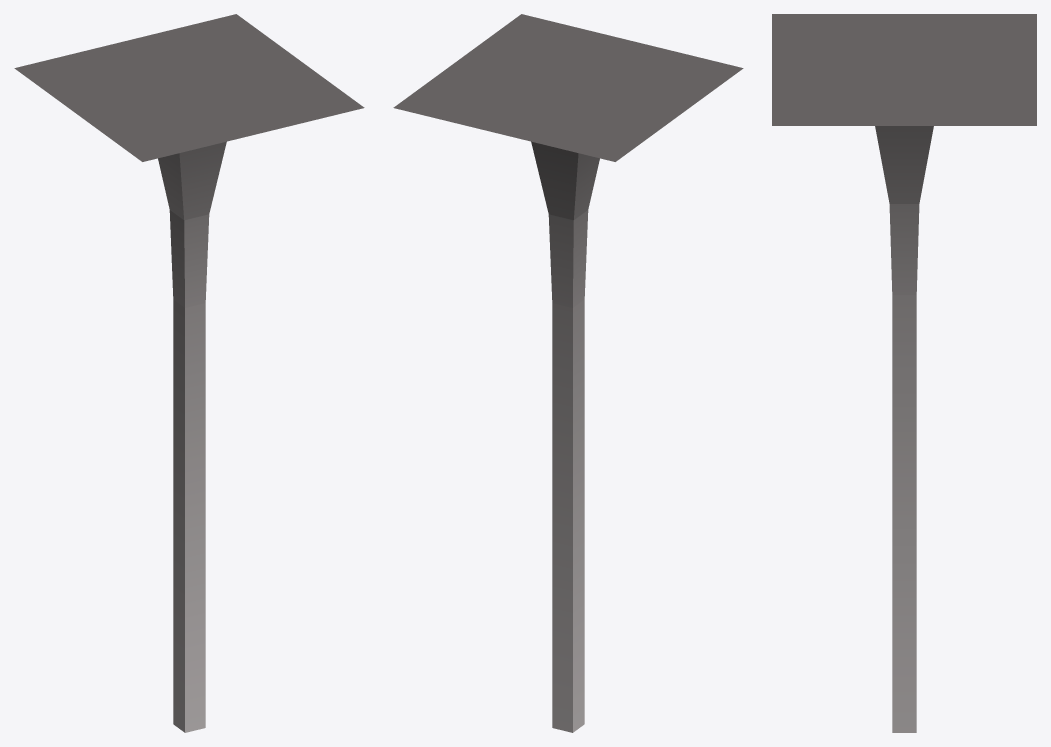
The model's file is Column_002.fbx.
3 renders of one model, left to right at view 1: azimuth 30°, elevation 25°; view 2: azimuth 150°, elevation 25°; view 3: azimuth 270°, elevation 25°, orthographic. The views are drawn at different scales.
Parts seen in each view (by area): view 1: Column_002; view 2: Column_002; view 3: Column_002.
Part boxes in pixels (box(x1,y1,x2,y2)): Column_002: box(14, 14, 364, 732); Column_002: box(393, 14, 743, 732); Column_002: box(772, 14, 1036, 732).
Size of the model in its own units: 277 by 760 by 277.
